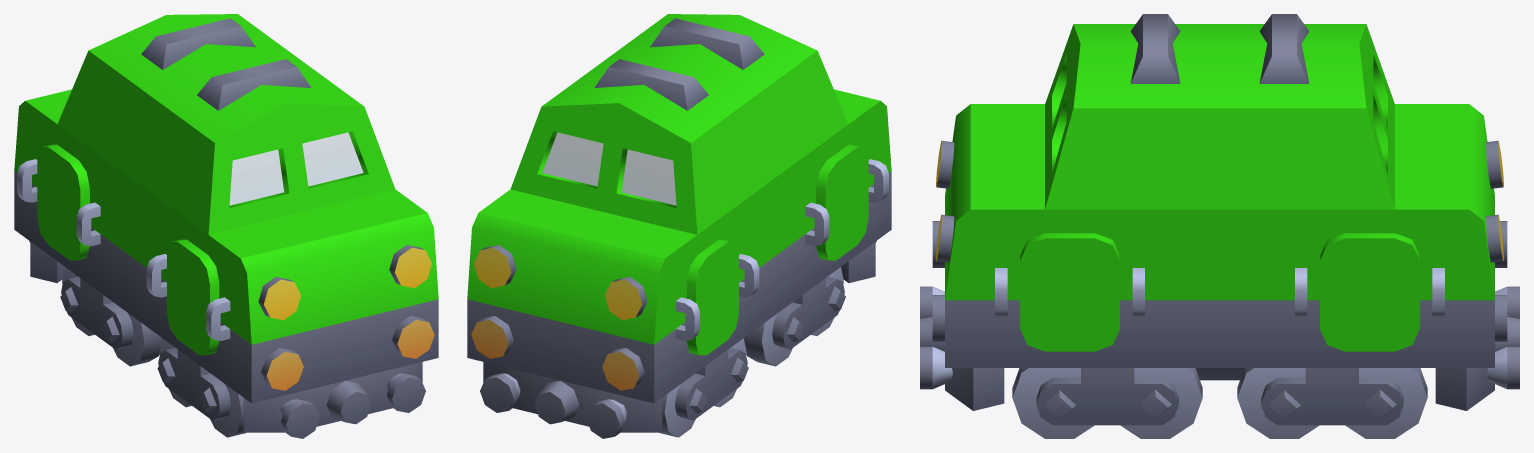
File: train-diesel-a.glb
3 renders of one model, left to right at view 1: azimuth 30°, elevation 25°; view 2: azimuth 150°, elevation 25°; view 3: azimuth 270°, elevation 25°, orthographic. The views are drawn at different scales.
Parts seen in each view (by area): view 1: body.001, train-diesel-a, wheels-back, wheels-front; view 2: body.001, train-diesel-a, wheels-front, wheels-back; view 3: body.001, train-diesel-a, wheels-back, wheels-front.
Boxes of the visible parts, bbox=[...] form: body.001: bbox=[14, 14, 438, 355]; train-diesel-a: bbox=[14, 18, 438, 438]; wheels-back: bbox=[60, 267, 161, 366]; wheels-front: bbox=[157, 338, 246, 437]; body.001: bbox=[467, 14, 891, 355]; train-diesel-a: bbox=[467, 18, 891, 438]; wheels-front: bbox=[744, 267, 845, 366]; wheels-back: bbox=[659, 338, 748, 437]; body.001: bbox=[945, 24, 1494, 351]; train-diesel-a: bbox=[920, 14, 1519, 410]; wheels-back: bbox=[1237, 368, 1427, 438]; wheels-front: bbox=[1012, 368, 1202, 438].
Bounding box in the file's own units: 1.2 × 1.6 × 2.4.
2 materials, 1 textured.
